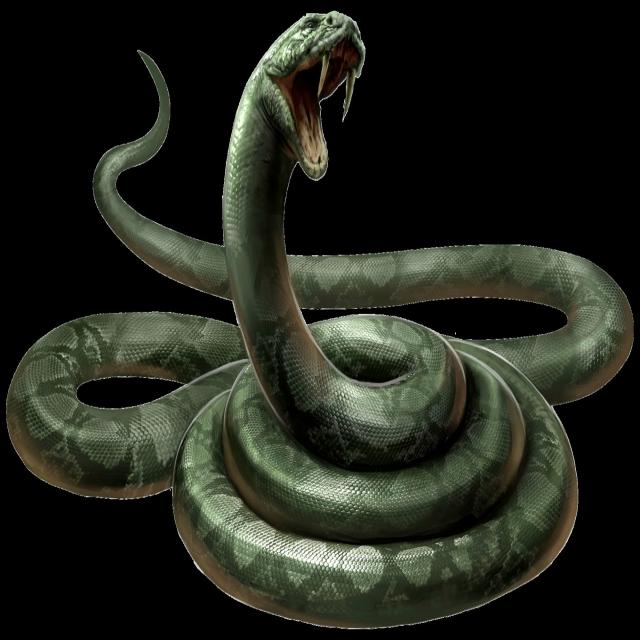snake: (6, 12, 633, 627)
